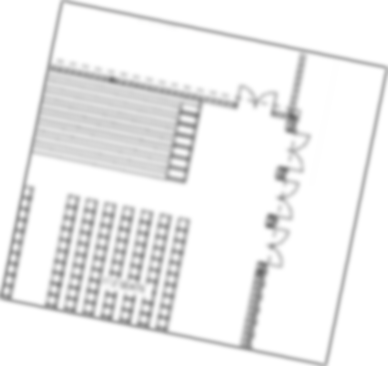double door: (278, 127, 313, 172), (235, 81, 278, 113), (272, 176, 301, 221), (261, 225, 290, 270)
